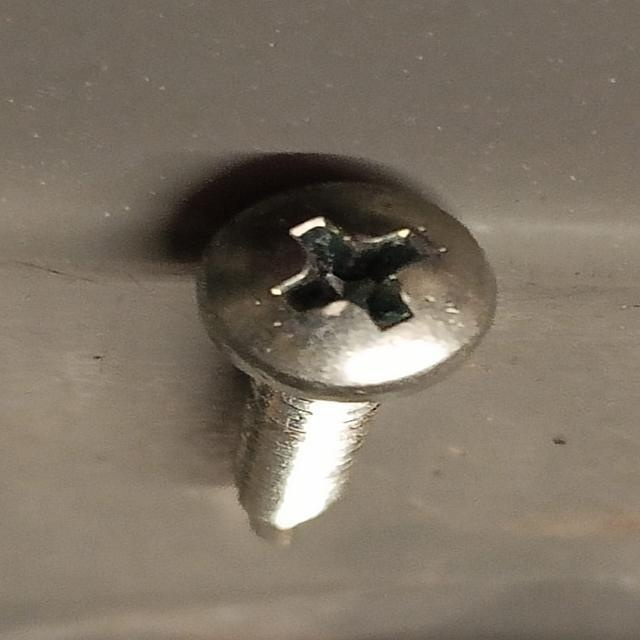phillips: (196, 176, 498, 403)
